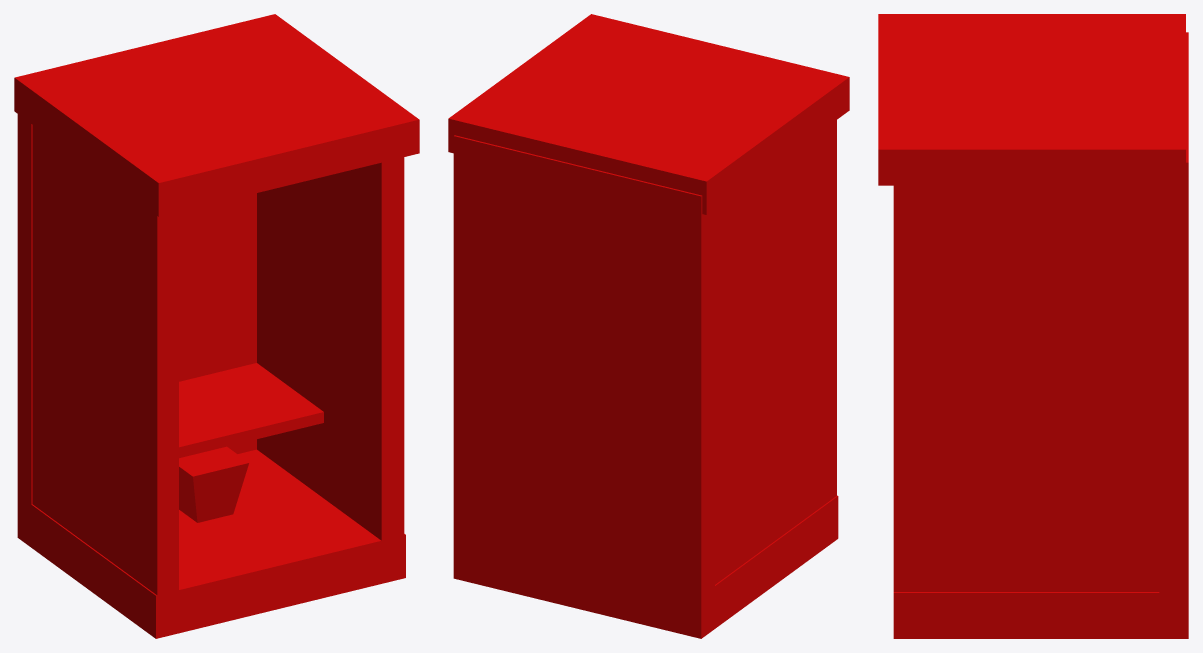
The model's file is SM_Prop_Toilet_Junk_01_Collision.fbx.
3 renders of one model, left to right at view 1: azimuth 30°, elevation 25°; view 2: azimuth 150°, elevation 25°; view 3: azimuth 270°, elevation 25°, orthographic. The views are drawn at different scales.
Parts seen in each view (by area): view 1: SM_Prop_Toilet_Junk_01_Collision; view 2: SM_Prop_Toilet_Junk_01_Collision; view 3: SM_Prop_Toilet_Junk_01_Collision.
Boxes of the visible parts, x1,y1,x2,y2 form: SM_Prop_Toilet_Junk_01_Collision: (14,14,419,638); SM_Prop_Toilet_Junk_01_Collision: (448,14,849,638); SM_Prop_Toilet_Junk_01_Collision: (878,14,1188,638).
Size of the model in its own units: 152 by 257 by 146.
